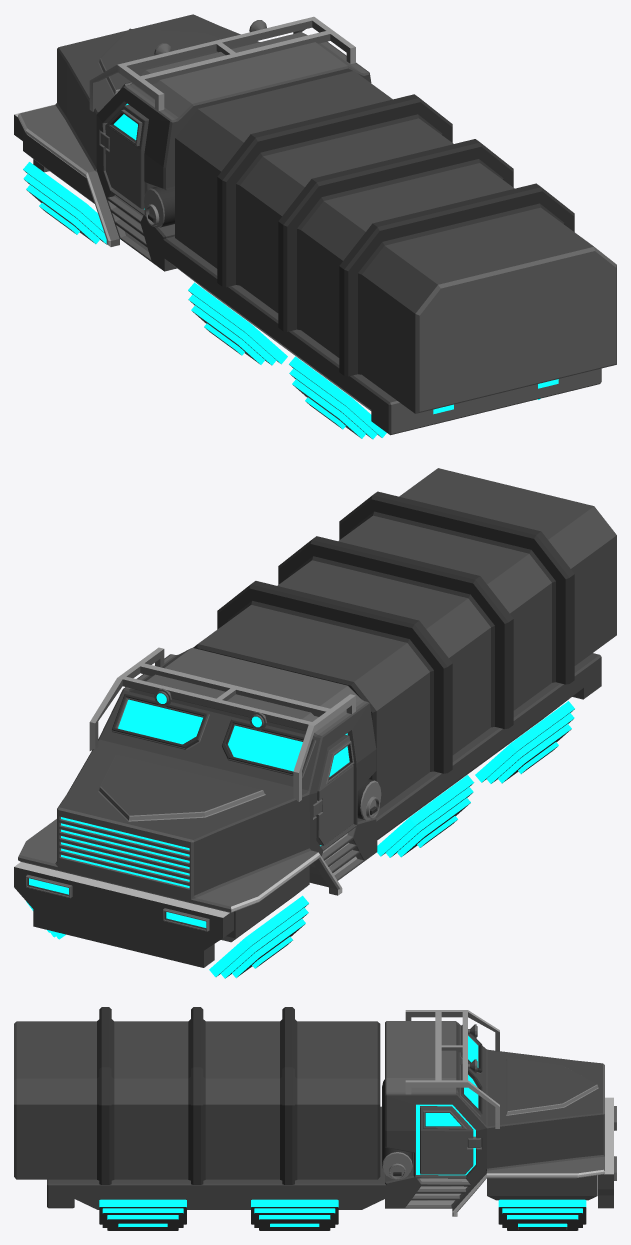
File: SM_Truck_B.fbx
The picture shows the model from 3 angles, top to bottom: view 1: azimuth 30°, elevation 25°; view 2: azimuth 150°, elevation 25°; view 3: azimuth 270°, elevation 25°; orthographic projection. The views are drawn at different scales.
Parts seen in each view (by area): view 1: SM_Truck_B; view 2: SM_Truck_B; view 3: SM_Truck_B.
Part boxes in pixels (<box>): SM_Truck_B: <box>14,14,616,439</box>; SM_Truck_B: <box>14,468,616,978</box>; SM_Truck_B: <box>14,1007,616,1230</box>.
Bounding box in the file's own units: 100 × 86.87 × 297.
